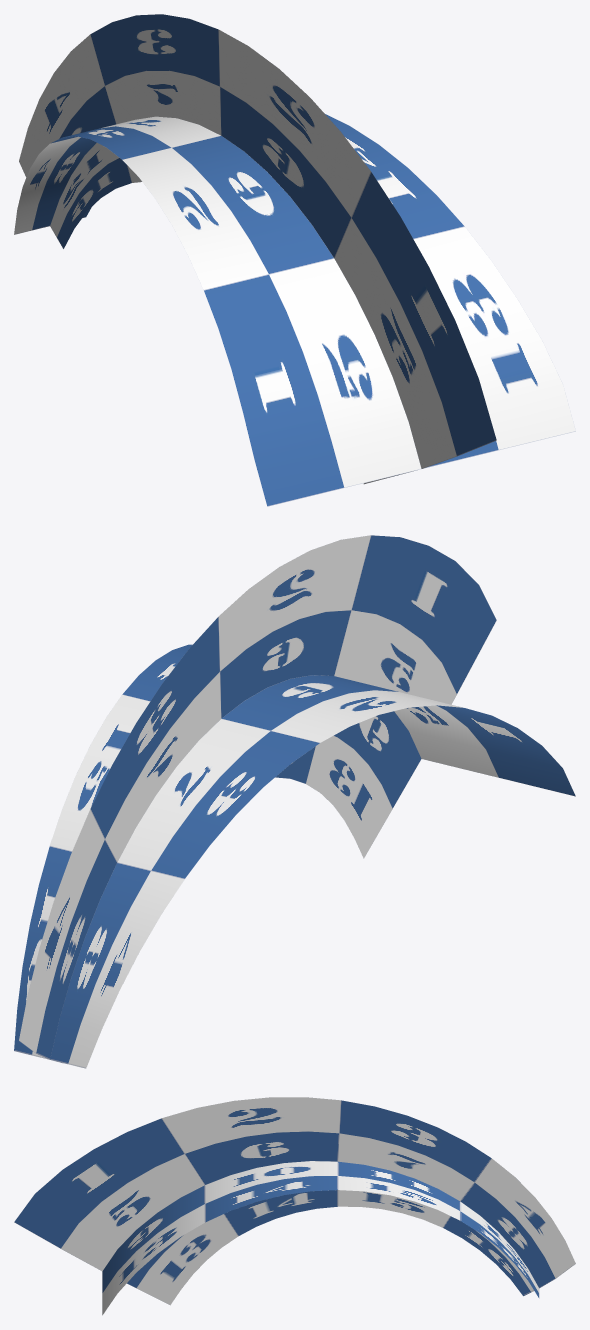
File: SlashWind0.fbx
3 views of the same model, one above another, from view 1: azimuth 30°, elevation 25°; view 2: azimuth 150°, elevation 25°; view 3: azimuth 270°, elevation 25° (orthographic). The views are drawn at different scales.
Parts seen in each view (by area): view 1: SM_e_Useful_SlashWind0000; view 2: SM_e_Useful_SlashWind0000; view 3: SM_e_Useful_SlashWind0000.
Part boxes in pixels (x1,y1,x2,y2): SM_e_Useful_SlashWind0000: (14, 14, 575, 506); SM_e_Useful_SlashWind0000: (14, 535, 575, 1068); SM_e_Useful_SlashWind0000: (14, 1097, 575, 1315).
Size of the model in its own units: 27.01 by 29.59 by 72.43.
